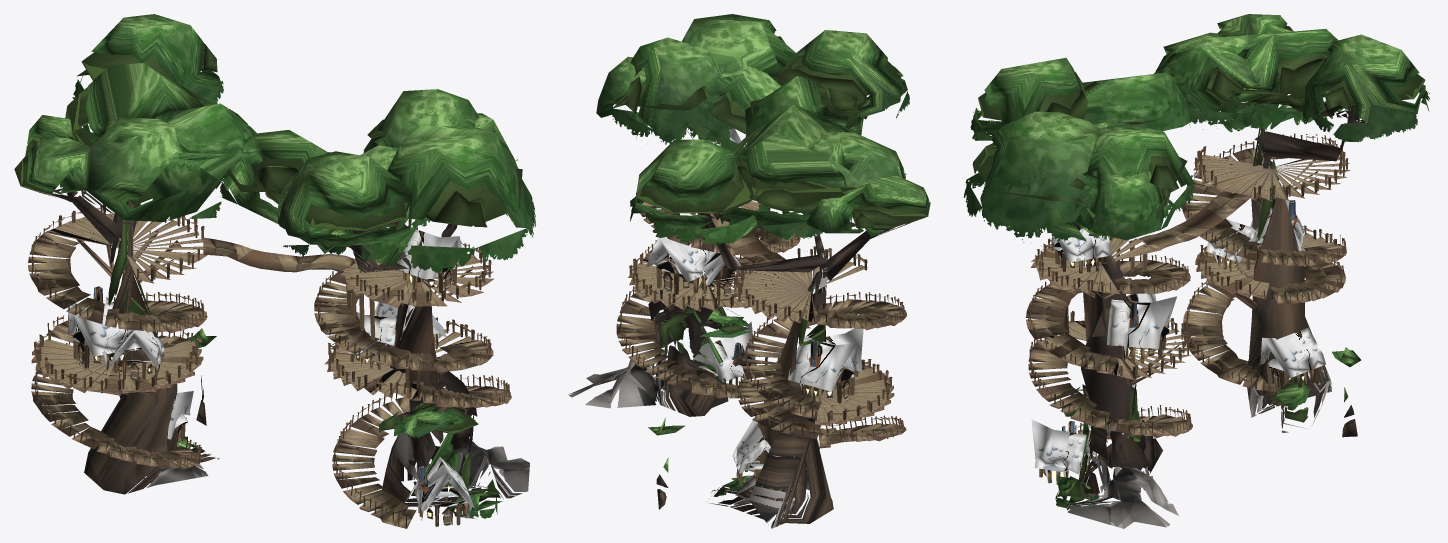
File: treehouse.glb
The picture shows the model from 3 angles, left to right: view 1: azimuth 30°, elevation 25°; view 2: azimuth 150°, elevation 25°; view 3: azimuth 270°, elevation 25°; orthographic projection. The views are drawn at different scales.
Visible parts, largest first — view 1: pSphere46_OrganicTextures_0, WoodenSupport23_Platform_Stairs_0, pCube187_door_and_others_0, pCube187_chimney_and_others_0, pSphere46_Leaves_edges_0; view 2: pSphere46_OrganicTextures_0, WoodenSupport23_Platform_Stairs_0, pCube187_chimney_and_others_0, pCube187_door_and_others_0, pSphere46_Leaves_edges_0, pCylinder26_Roof02_0; view 3: pSphere46_OrganicTextures_0, WoodenSupport23_Platform_Stairs_0, pCube187_chimney_and_others_0, pSphere46_Leaves_edges_0, pCube187_door_and_others_0.
Part boxes in pixels (box(x1,y1,x2,y2)): pSphere46_OrganicTextures_0: box(14, 14, 531, 510); WoodenSupport23_Platform_Stairs_0: box(28, 213, 511, 528); pCube187_door_and_others_0: box(31, 203, 509, 527); pCube187_chimney_and_others_0: box(32, 208, 507, 520); pSphere46_Leaves_edges_0: box(72, 69, 535, 518); pSphere46_OrganicTextures_0: box(569, 14, 930, 528); WoodenSupport23_Platform_Stairs_0: box(616, 188, 906, 476); pCube187_chimney_and_others_0: box(620, 128, 903, 483); pCube187_door_and_others_0: box(619, 191, 905, 488); pSphere46_Leaves_edges_0: box(596, 91, 909, 392); pCylinder26_Roof02_0: box(654, 260, 854, 457); pSphere46_OrganicTextures_0: box(972, 14, 1425, 528); WoodenSupport23_Platform_Stairs_0: box(1026, 142, 1350, 442); pCube187_chimney_and_others_0: box(1030, 136, 1347, 484); pSphere46_Leaves_edges_0: box(963, 88, 1429, 508); pCube187_door_and_others_0: box(1028, 133, 1347, 481).
Bounding box in the file's own units: 15.33 × 13.86 × 15.54.
Materials: 9 (9 with a texture image).
